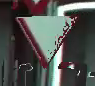Give way: (9, 12, 83, 72)
